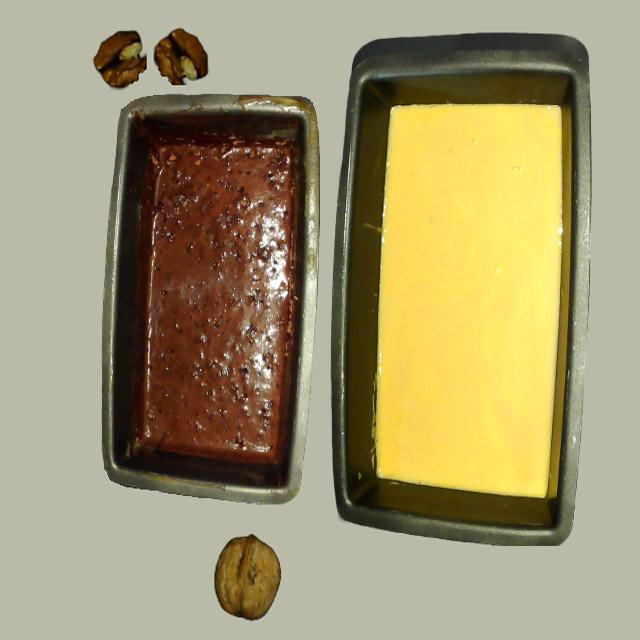Walnut: (159, 531, 294, 640)
